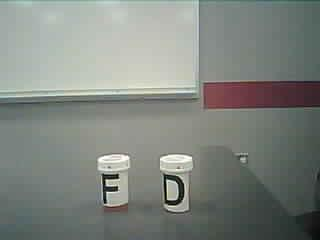Bottle D: (159, 147, 197, 218)
Bottle F: (97, 149, 135, 213)
